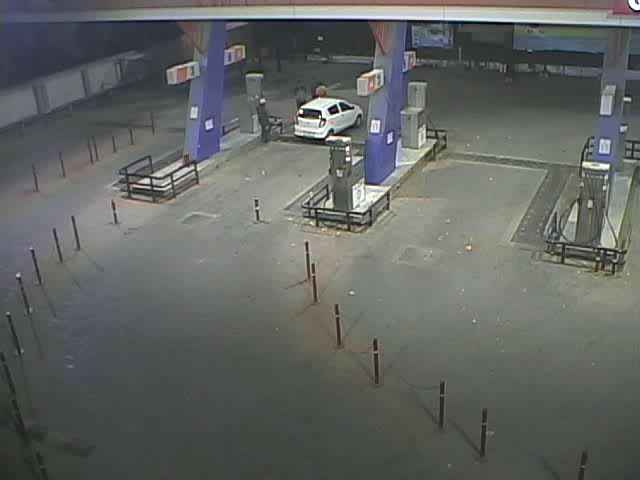Car: (288, 91, 367, 149)
Others: (254, 91, 275, 146)
